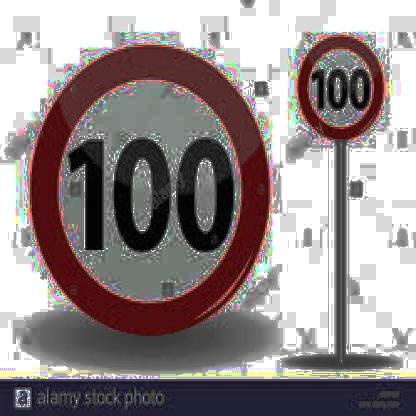Speed Limit -100-: (27, 36, 276, 346), (296, 33, 390, 143)
